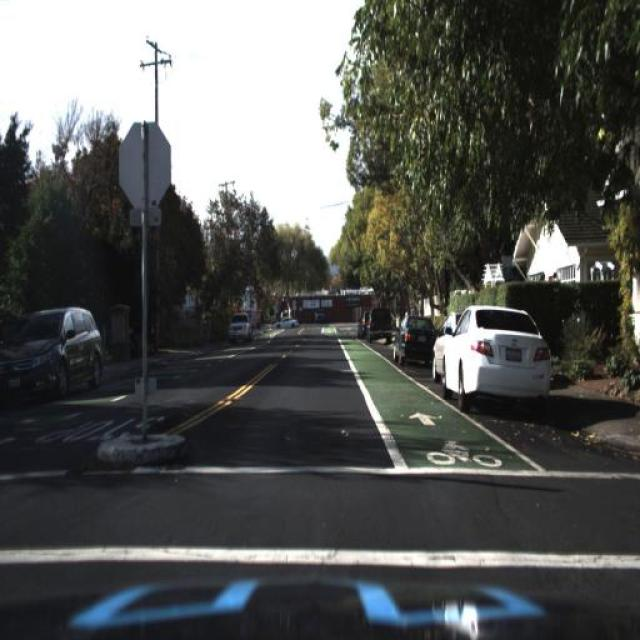car: (444, 304, 554, 421), (2, 304, 102, 405), (421, 308, 471, 396), (389, 318, 437, 369), (224, 308, 253, 344), (368, 301, 394, 338), (270, 310, 300, 334)
